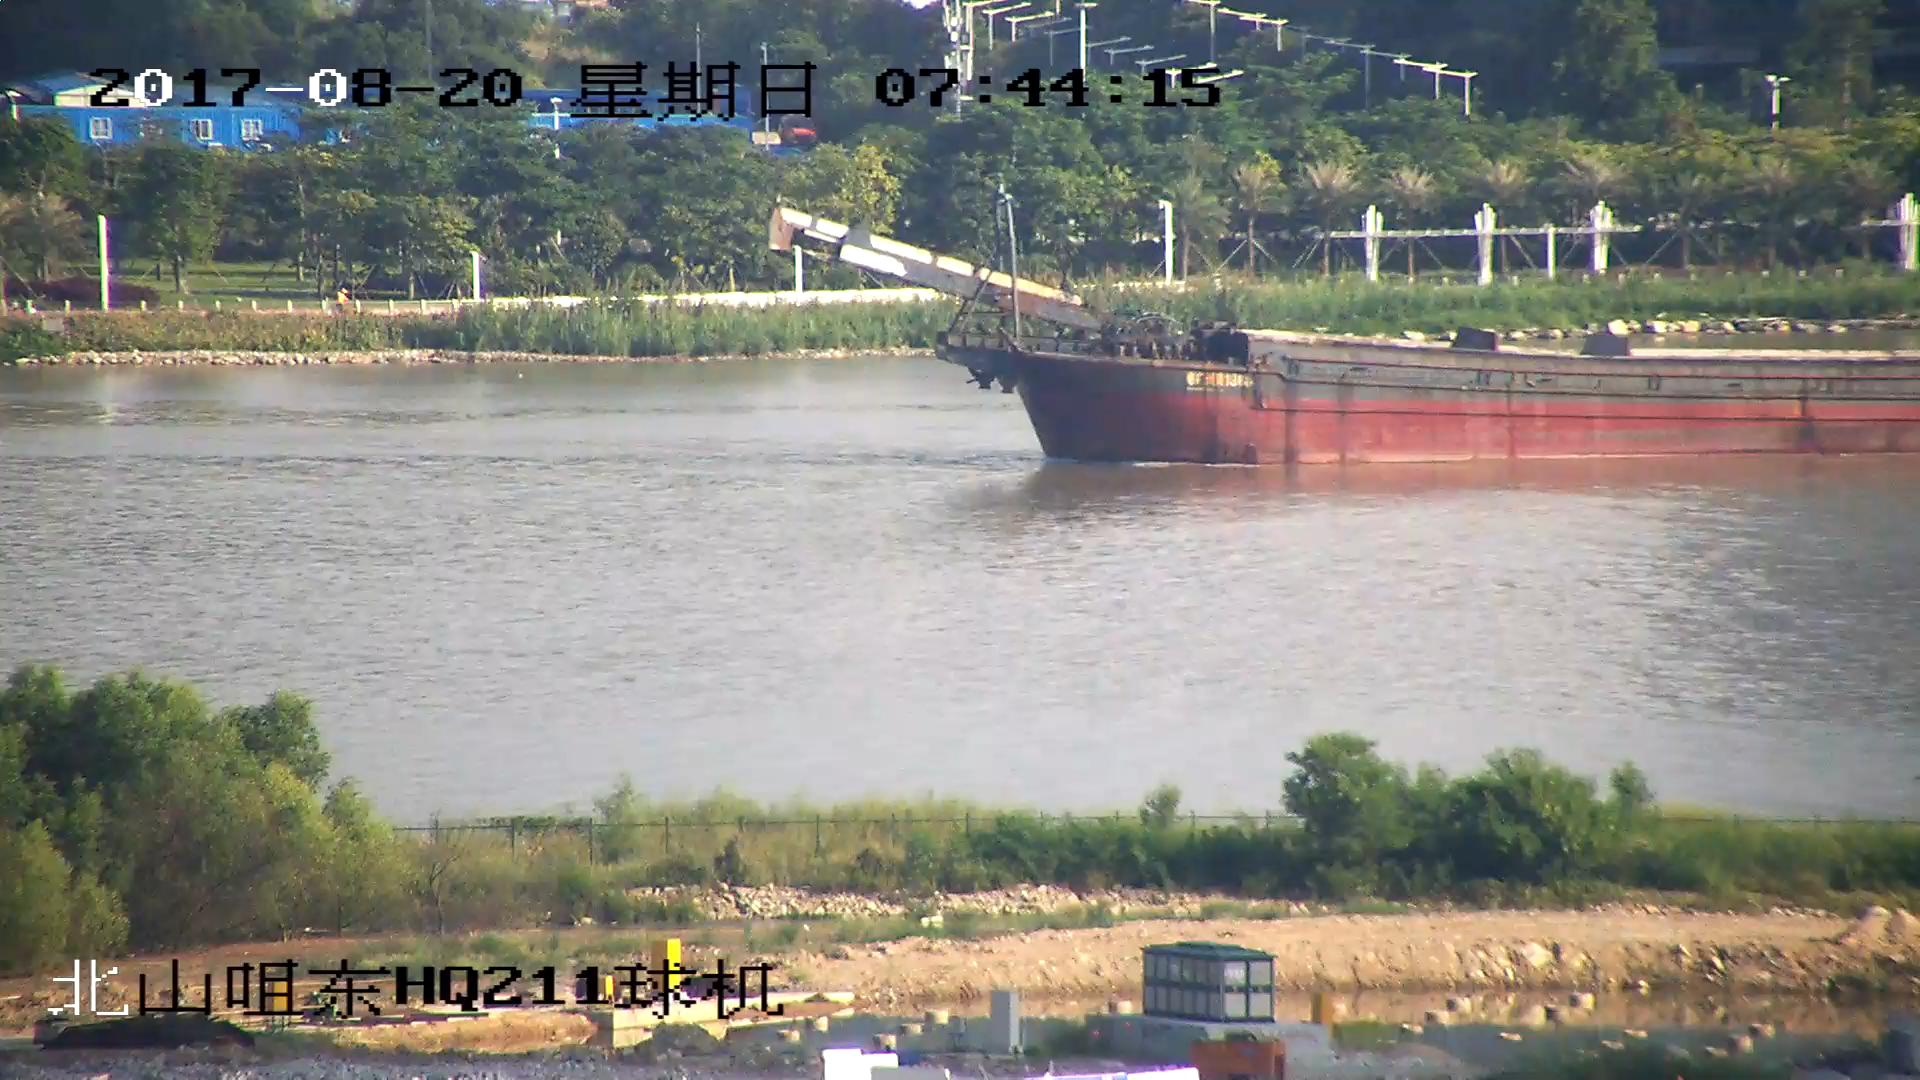bulk cargo carrier: (768, 205, 1920, 464)
